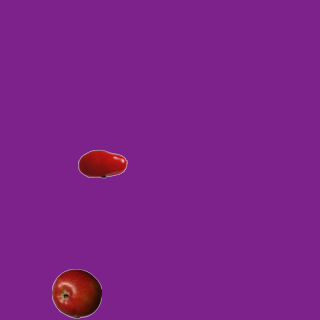Apple Braeburn: (51, 268, 101, 318)
Tomato 2: (77, 138, 127, 188)
